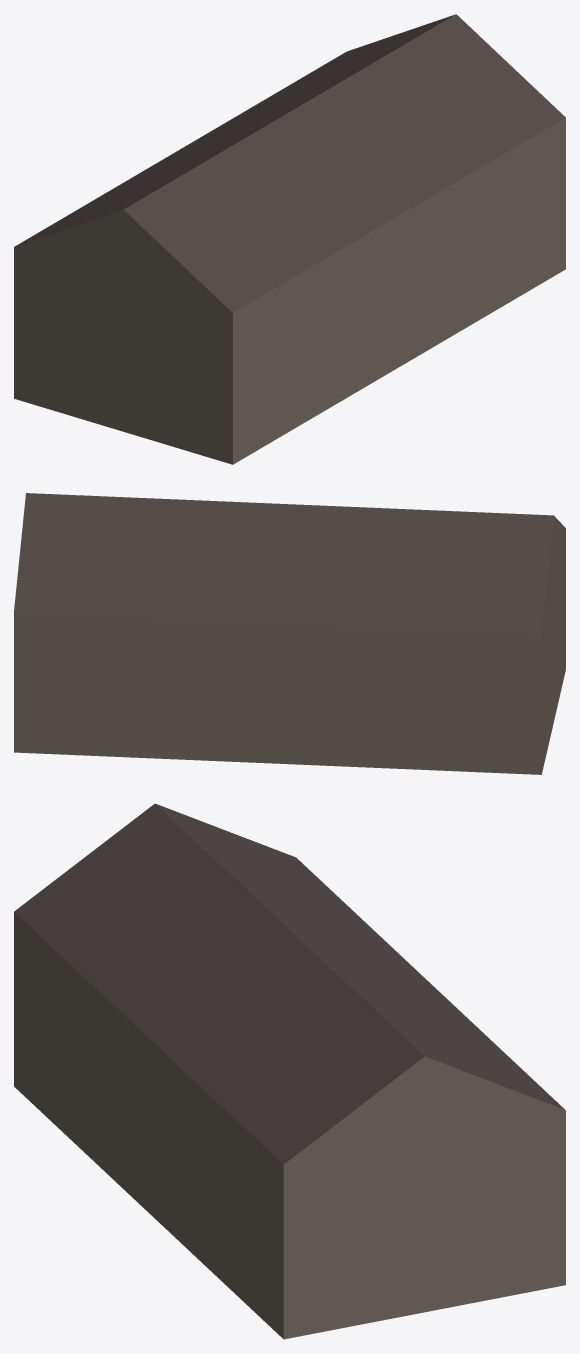
3 renders of one model, top to bottom at view 1: azimuth 30°, elevation 25°; view 2: azimuth 150°, elevation 25°; view 3: azimuth 270°, elevation 25°, orthographic. The views are drawn at different scales.
Parts seen in each view (by area): view 1: HP-w859447929; view 2: HP-w859447929; view 3: HP-w859447929.
Boxes of the visible parts, bbox=[...] form: HP-w859447929: bbox=[14, 14, 565, 464]; HP-w859447929: bbox=[14, 493, 565, 774]; HP-w859447929: bbox=[14, 803, 565, 1339].
Size of the model in its own units: 22.62 by 8.79 by 17.17.
